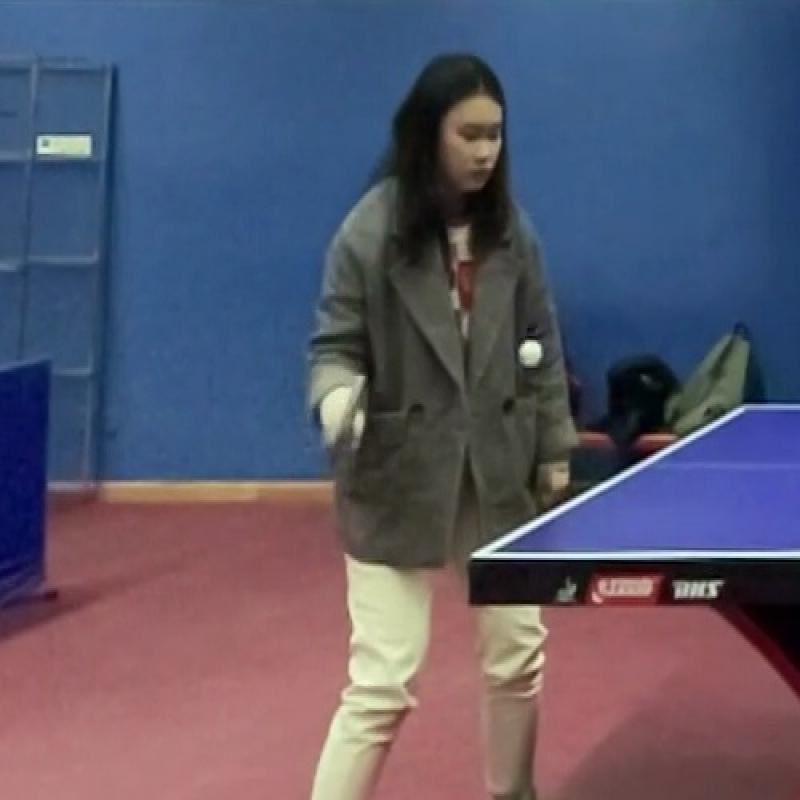bats: (310, 368, 409, 480)
